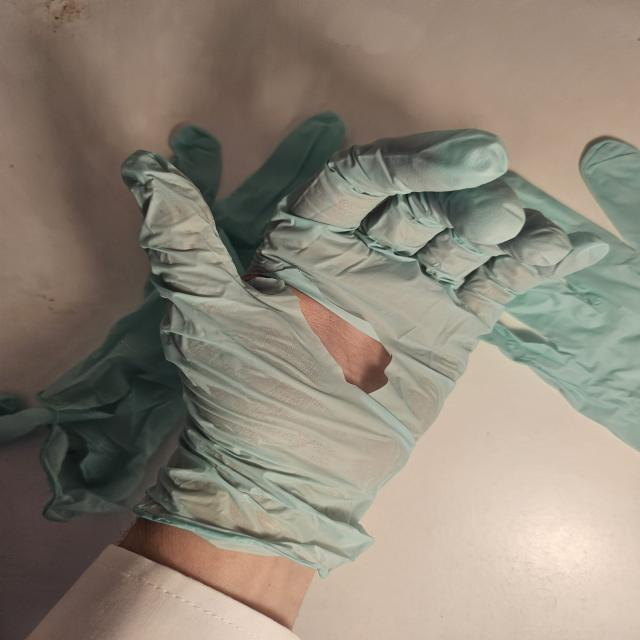gloves_damaged: (113, 121, 613, 578)
